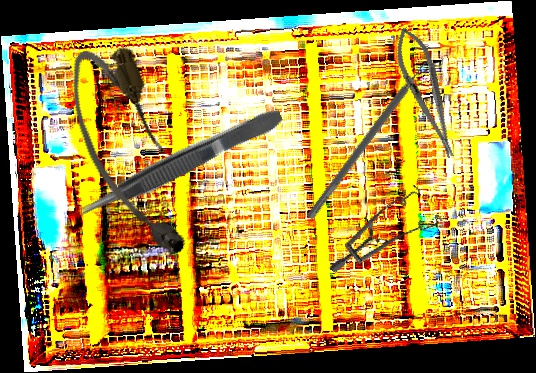Cannula: (55, 36, 201, 273)
Needle Holder: (386, 22, 467, 164)
Spatula Surgical: (306, 54, 437, 225)
Speculum: (327, 167, 453, 307)
Tissue Forceps: (72, 103, 288, 225)
